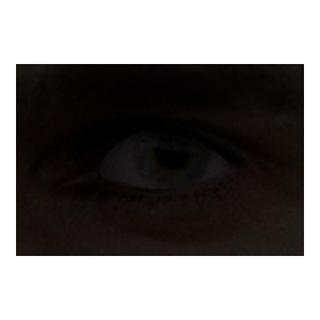pupil: (158, 137, 188, 167)
